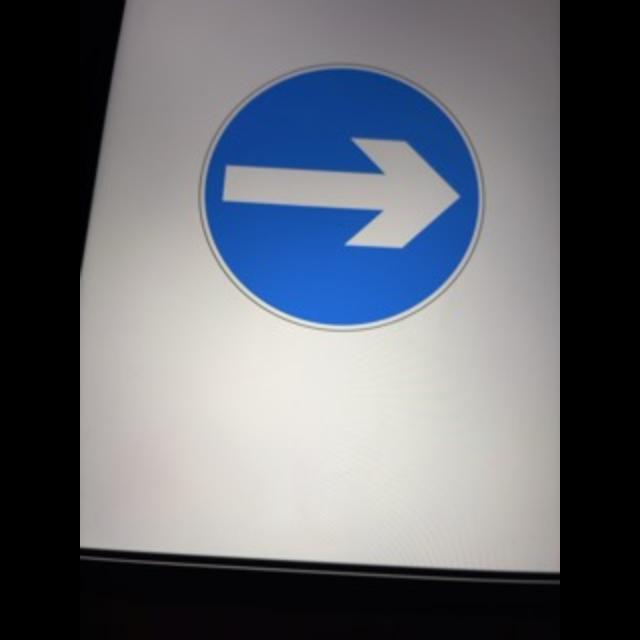TURN RIGHT: (202, 64, 480, 328)
